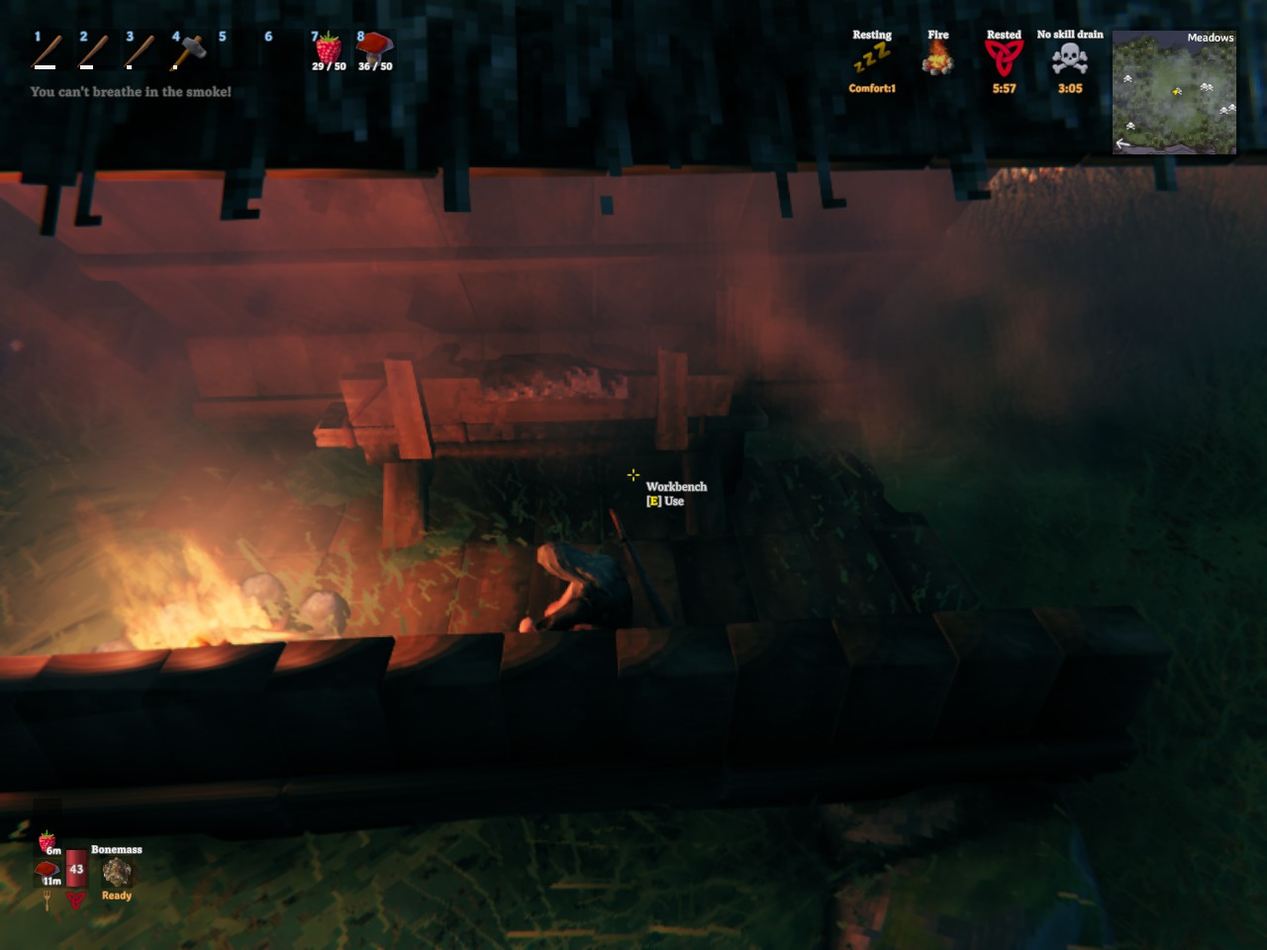Status Indicator: (839, 20, 1112, 114)
